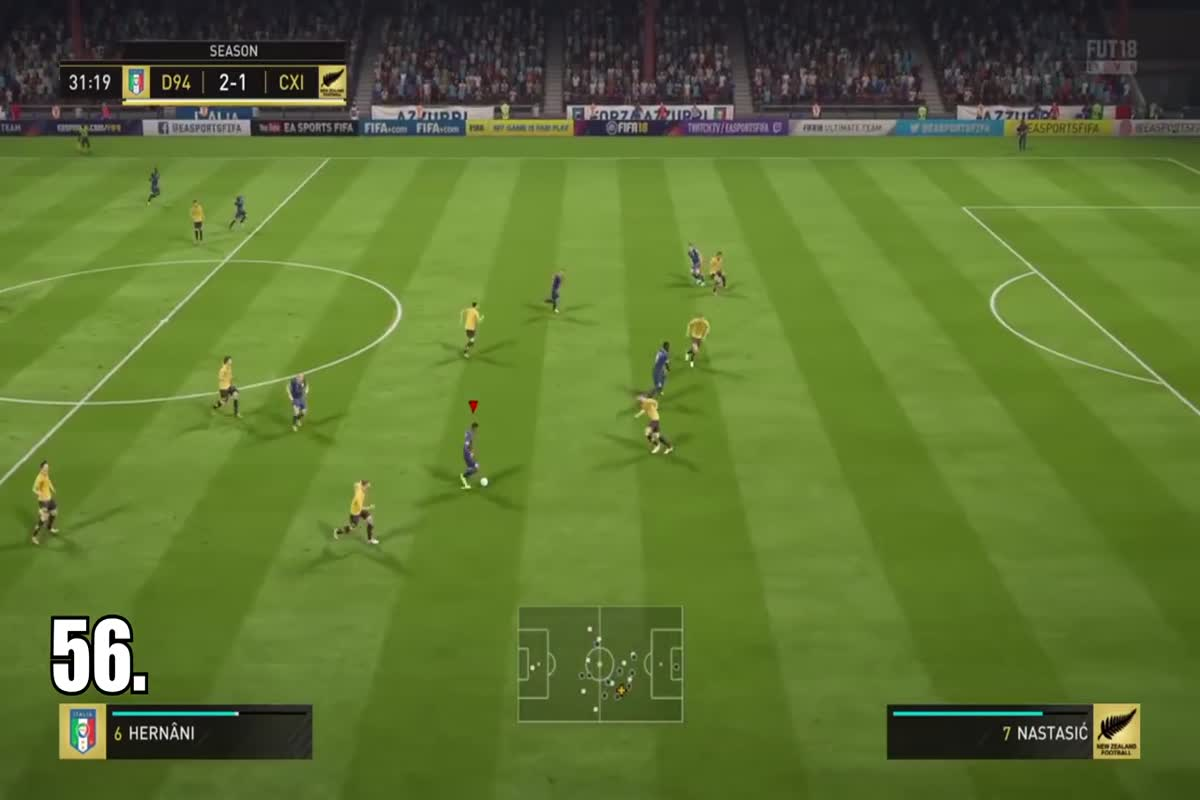ball: (475, 473, 495, 493)
